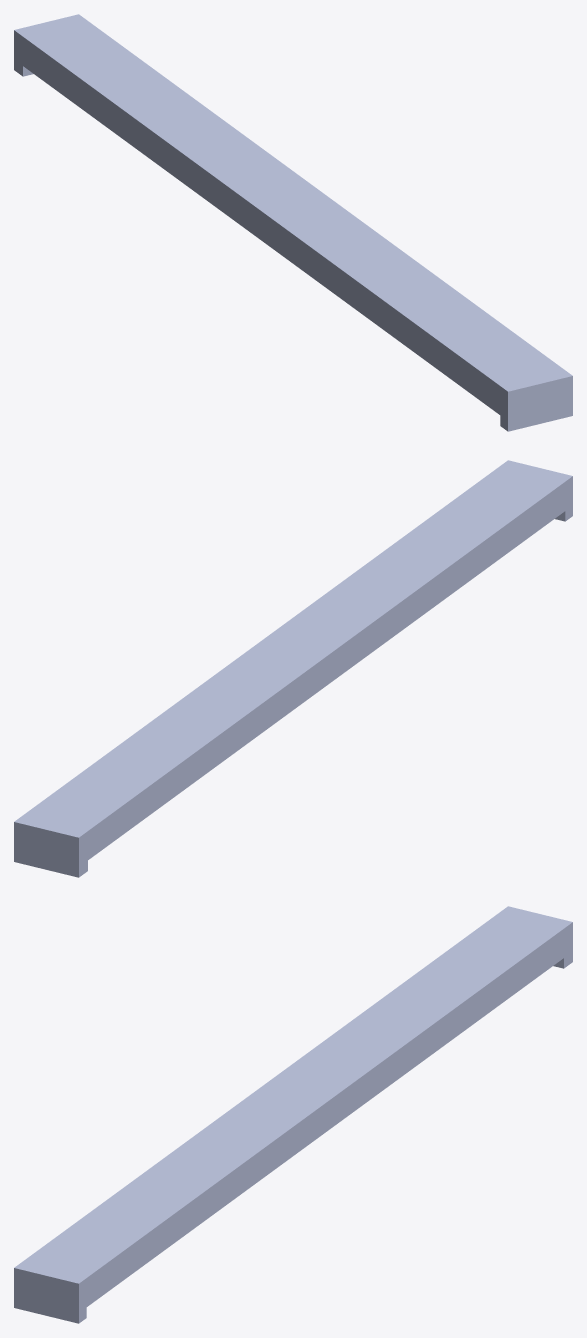
Rendered from WallFrame_Top.fbx.
The picture shows the model from 3 angles, top to bottom: view 1: azimuth 30°, elevation 25°; view 2: azimuth 150°, elevation 25°; view 3: azimuth 330°, elevation 25°; orthographic projection.
Parts seen in each view (by area): view 1: WallWithSkirt.005; view 2: WallWithSkirt.005; view 3: WallWithSkirt.005.
Part boxes in pixels (bbox=[...]): WallWithSkirt.005: bbox=[14, 14, 572, 431]; WallWithSkirt.005: bbox=[14, 460, 572, 877]; WallWithSkirt.005: bbox=[14, 906, 572, 1323].
Size of the model in its own units: 15.16 by 8.94 by 200.
